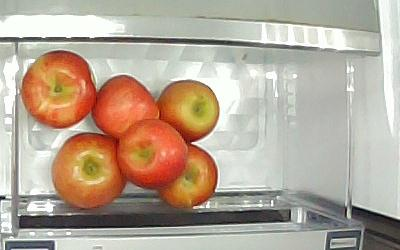apple: (22, 50, 98, 128), (52, 133, 128, 210), (117, 119, 186, 189), (93, 73, 161, 141), (154, 144, 218, 209), (157, 79, 220, 143)
